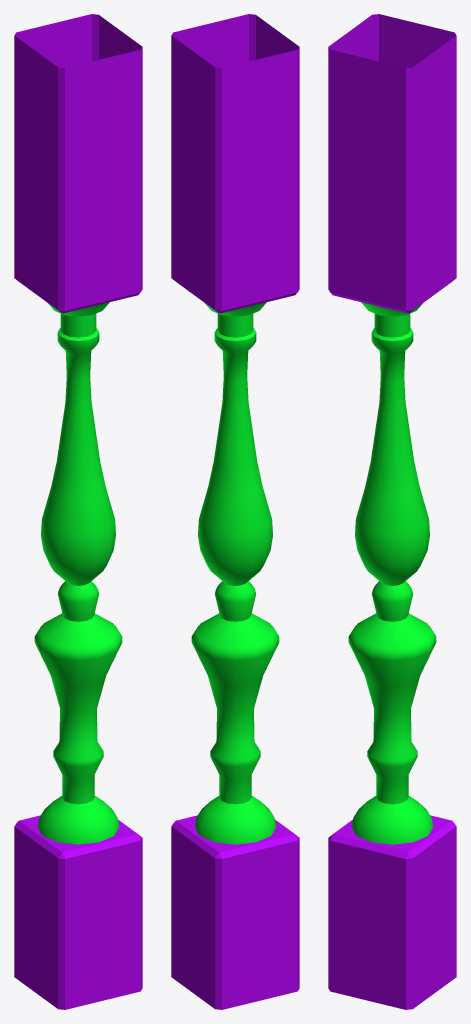
File: AR-RampPost_02.FBX
3 views of the same model, side by side, from view 1: azimuth 30°, elevation 25°; view 2: azimuth 210°, elevation 25°; view 3: azimuth 330°, elevation 25° (orthographic).
Visible parts, largest first — view 1: AR-RampPost_02; view 2: AR-RampPost_02; view 3: AR-RampPost_02.
Boxes of the visible parts, x1,y1,x2,y2 form: AR-RampPost_02: (14,14,142,1009); AR-RampPost_02: (171,14,299,1009); AR-RampPost_02: (328,14,456,1009).
Bounding box in the file's own units: 9.5 × 101 × 9.5.
